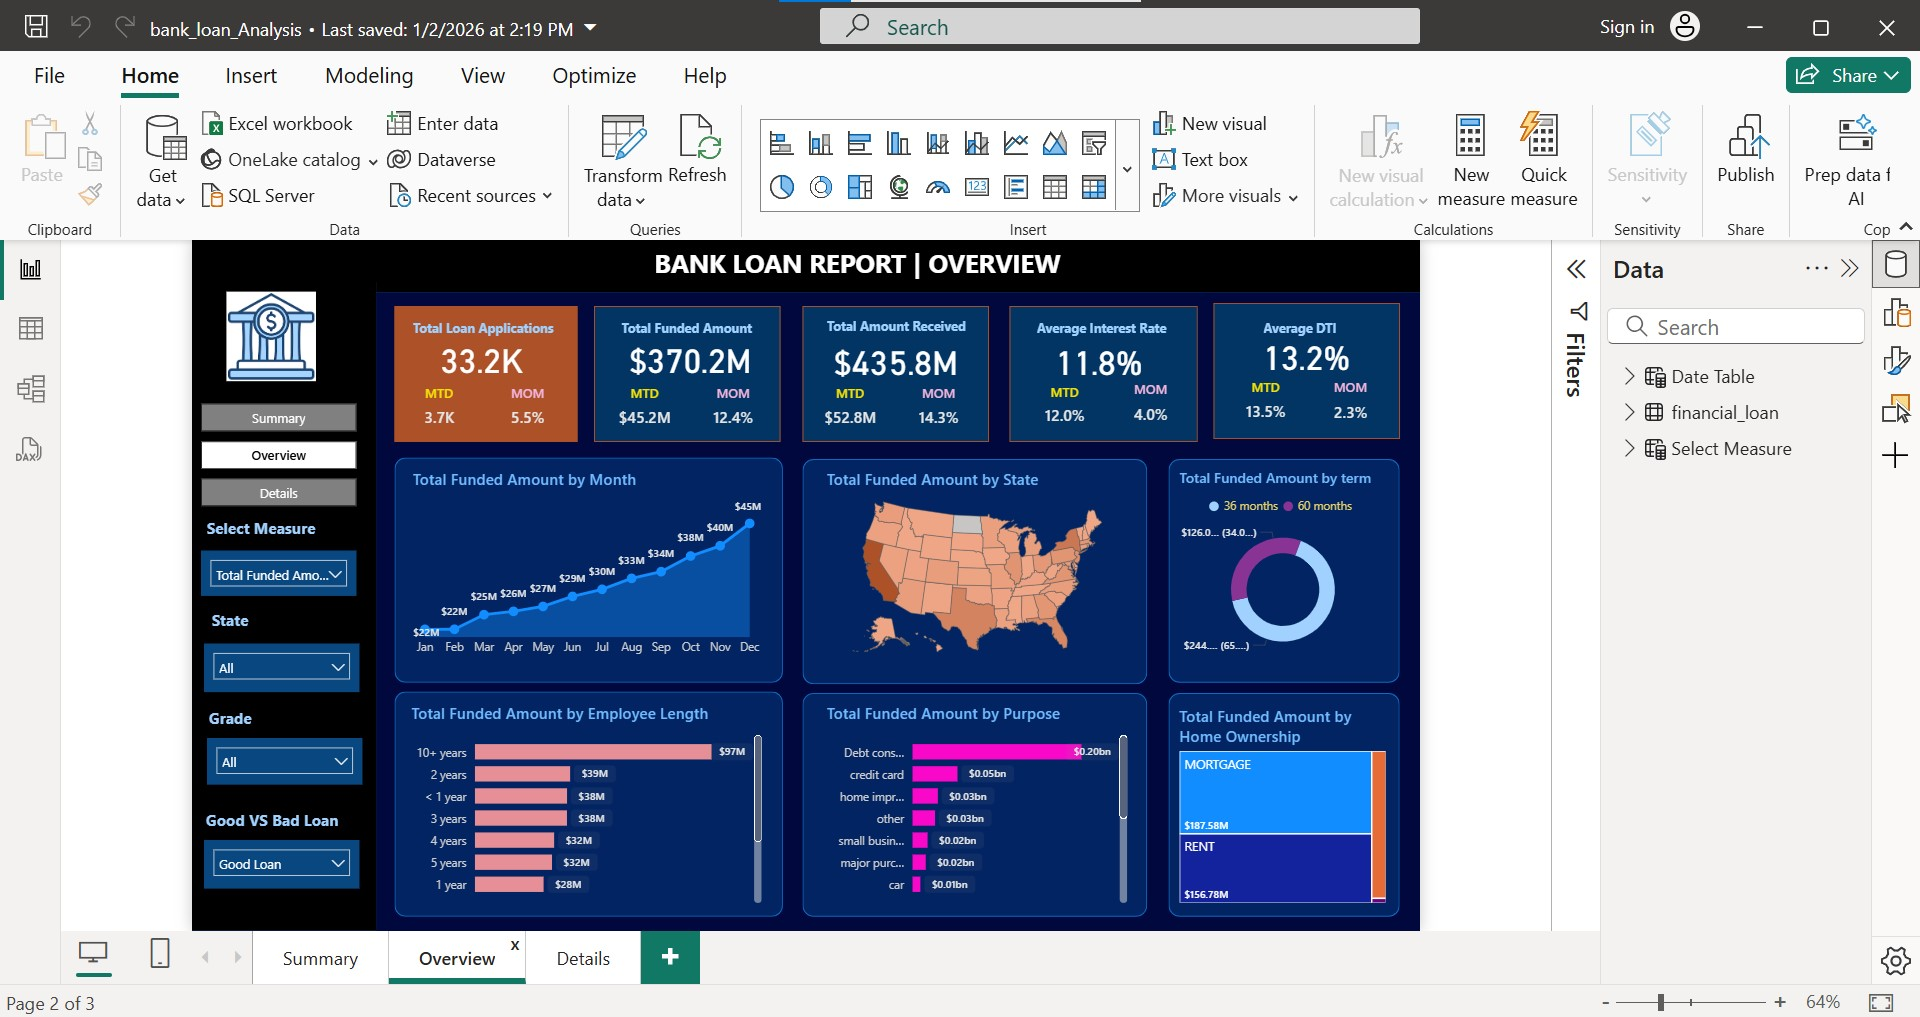

Layout of this report page (visuals, bound fields, positions):
{"tool":"powerbi","page":{"name":"Overview","canvas":[1280,720],"ordinal":1},"visuals":[{"type":"shape","box":[0,0,1280.7,54.4],"z":0},{"type":"card","fields":{"Values":["financial_loan.Average DTI"]},"box":[1101.3,90.3,118.1,58.1],"z":0,"group":"g3"},{"type":"card","fields":{"Values":["financial_loan.Total loan Application"]},"box":[237.6,93.9,128.1,57.9],"z":0,"group":"g1"},{"type":"card","fields":{"Values":["financial_loan.Avg Interest Rate"]},"box":[866.7,95.2,157.5,58.3],"z":0,"group":"g5"},{"type":"card","fields":{"Values":["financial_loan.Total Funded Amount"]},"box":[447.9,96.9,140.4,52.6],"z":0,"group":"g2"},{"type":"card","fields":{"Values":["financial_loan.Total Amount Received"]},"box":[662.2,97.1,140.4,52.6],"z":0,"group":"g4"},{"type":"textbox","box":[656.8,74.3,163.5,36.3],"z":1000,"group":"g4"},{"type":"textbox","box":[224.1,76,187.1,36.3],"z":1000,"group":"g1"},{"type":"textbox","box":[442.6,76.3,154.7,34],"z":1000,"group":"g2"},{"type":"textbox","box":[876.3,76.3,159.9,41.8],"z":1000,"group":"g5"},{"type":"textbox","box":[1110.8,76.3,98.1,34.5],"z":1000,"group":"g3"},{"type":"textbox","box":[234.3,254.3,167.1,23.6],"z":1000},{"type":"textbox","box":[0,281.9,148.1,41],"z":1000,"group":"g9"},{"type":"textbox","box":[15.8,379.6,89.8,41],"z":1000,"group":"g6"},{"type":"textbox","box":[12.6,482,74.9,36.6],"z":1000,"group":"g7"},{"type":"textbox","box":[9.5,587.5,168.5,37.8],"z":1000,"group":"g8"},{"type":"textbox","box":[476.3,0,456.3,55],"z":2000},{"type":"card","title":"MTD","fields":{"Values":["financial_loan.MTD Avg DTI"]},"box":[1071.7,144.2,93,54.4],"z":2000,"group":"g3"},{"type":"card","title":"MTD","fields":{"Values":["financial_loan.MTD Avg Int Rate"]},"box":[863.4,148.4,93,54.4],"z":2000,"group":"g5"},{"type":"card","title":"MTD","fields":{"Values":["financial_loan.MTD Funded Amount"]},"box":[425.1,149.5,93,54.4],"z":2000,"group":"g2"},{"type":"card","title":"MTD","fields":{"Values":["financial_loan.MTD Total Amount Received"]},"box":[639.4,149.7,93,54.4],"z":2000,"group":"g4"},{"type":"card","title":"MTD","fields":{"Values":["financial_loan.MTD Loan Applications"]},"box":[210.5,150.1,93,54.4],"z":2000,"group":"g1"},{"type":"shape","box":[210.7,69,190.7,141.7],"z":3000},{"type":"card","title":"MOM","fields":{"Values":["financial_loan.MOM Avg DTI"]},"box":[1164.2,143,85.4,56.3],"z":3000,"group":"g3"},{"type":"card","title":"MOM","fields":{"Values":["financial_loan.MOM Avg Int Rate"]},"box":[956.6,145.3,84.5,57.7],"z":3000,"group":"g5"},{"type":"card","title":"MOM","fields":{"Values":["financial_loan.MOM Total Funded Amount"]},"box":[518.1,149.5,93,54.4],"z":3000,"group":"g2"},{"type":"card","title":"MOM","fields":{"Values":["financial_loan.MOM Total Amount Received"]},"box":[732.4,149.7,93,54.4],"z":3000,"group":"g4"},{"type":"card","title":"MOM","fields":{"Values":["financial_loan.MOM Loan Applications"]},"box":[303.5,150.1,93,54.4],"z":3000,"group":"g1"},{"type":"group","id":"g1","title":"Group 1","box":[210.5,76,200.7,128.5],"z":4000},{"type":"shape","box":[419.6,69,194.4,141.7],"z":5000},{"type":"group","id":"g2","title":"Group 1","box":[425.1,76.3,185.3,127.2],"z":6000},{"type":"shape","box":[635.8,69,194.4,141.7],"z":7000},{"type":"shape","box":[851.9,69,196.2,141.7],"z":8000},{"type":"shape","box":[1064.5,65.4,194.4,141.7],"z":9000},{"type":"group","id":"g3","title":"Group 1","box":[1071.7,76.3,177.9,123],"z":10000},{"type":"shape","box":[211.1,226.8,404.8,234.7],"z":11000},{"type":"group","id":"g4","title":"Group 1","box":[639.4,74.3,186,129.8],"z":12000},{"type":"group","id":"g5","title":"Group 1","box":[863.4,76.3,178,127.2],"z":13000},{"type":"shape","box":[0,44.1,192.2,675.7],"z":14000},{"type":"slicer","fields":{"Values":["financial_loan.address_state"]},"box":[12.6,420.5,162.2,50.4],"z":15000},{"type":"group","id":"g6","title":"Group 1","box":[15.8,379.6,89.8,41],"z":16000},{"type":"slicer","fields":{"Values":["financial_loan.grade"]},"box":[15.8,518.2,162.2,48.8],"z":17000},{"type":"group","id":"g7","title":"Group 1","box":[12.6,482,75.6,36.2],"z":18000},{"type":"slicer","fields":{"Values":["financial_loan.Good vs Bad Loan"]},"box":[12.6,625.3,162.2,50.4],"z":19000},{"type":"group","id":"g8","title":"Group 1","box":[9.5,587.5,168.5,37.8],"z":20000},{"type":"areaChart","fields":{"Y":["financial_loan.Total Funded Amount"],"Category":["Date Table.Month"]},"box":[224.8,238.1,373,204.8],"z":21000},{"type":"slicer","fields":{"Values":["Select Measure.Select Measure"]},"box":[9.5,322.9,162.2,47.3],"z":22000},{"type":"group","id":"g9","title":"Group 1","box":[0,281.9,148.1,41],"z":23000},{"type":"shape","box":[636.3,228.4,359.1,234.7],"z":24000},{"type":"shapeMap","fields":{"Value":["financial_loan.Total Funded Amount"],"Category":["financial_loan.address_state"]},"box":[656.8,237.8,322.9,204.8],"z":25000},{"type":"shape","box":[1017.5,228.4,241,233.1],"z":26000},{"type":"donutChart","fields":{"Category":["financial_loan.term"],"Y":["financial_loan.Total Funded Amount"]},"box":[1023.8,237.8,225.2,204.8],"z":27000},{"type":"shape","box":[211.1,470.9,404.8,234.7],"z":27001},{"type":"barChart","title":"Total Funded Amount by Employee Length","fields":{"Category":["financial_loan.emp_length"],"Y":["financial_loan.Total Funded Amount"]},"box":[223.7,482,374.9,214.2],"z":27002},{"type":"shape","box":[636.3,472.5,359.1,233.1],"z":27003},{"type":"barChart","fields":{"Category":["financial_loan.purpose"],"Y":["financial_loan.Total Funded Amount"]},"box":[656.8,482,322.9,214.2],"z":27004},{"type":"shape","box":[1017.5,472.5,241,233.1],"z":27005},{"type":"treemap","fields":{"Group":["financial_loan.home_ownership"],"Values":["financial_loan.Total Funded Amount"]},"box":[1023.8,485.1,225.2,211.1],"z":27006},{"type":"pageNavigator","box":[9.5,170.1,162.2,107.1],"z":27007},{"type":"image","box":[17.3,48.8,130.7,104],"z":27008}]}

Visuals, with their boxes on the page's 1280x720 design canvas (x1, y1, x2, y2). These are canvas units, not pixel positions in the 1920x1017 screenshot, which may show the page scaled, cropped or inside an application window:
shape: crop(0, 0, 1281, 54)
card - financial_loan.Average DTI: crop(1101, 90, 1219, 148)
card - financial_loan.Total loan Application: crop(238, 94, 366, 152)
card - financial_loan.Avg Interest Rate: crop(867, 95, 1024, 154)
card - financial_loan.Total Funded Amount: crop(448, 97, 588, 150)
card - financial_loan.Total Amount Received: crop(662, 97, 803, 150)
textbox: crop(657, 74, 820, 111)
textbox: crop(224, 76, 411, 112)
textbox: crop(443, 76, 597, 110)
textbox: crop(876, 76, 1036, 118)
textbox: crop(1111, 76, 1209, 111)
textbox: crop(234, 254, 401, 278)
textbox: crop(0, 282, 148, 323)
textbox: crop(16, 380, 106, 421)
textbox: crop(13, 482, 88, 519)
textbox: crop(10, 588, 178, 625)
textbox: crop(476, 0, 933, 55)
"MTD" card: crop(1072, 144, 1165, 199)
"MTD" card: crop(863, 148, 956, 203)
"MTD" card: crop(425, 150, 518, 204)
"MTD" card: crop(639, 150, 732, 204)
"MTD" card: crop(210, 150, 304, 204)
shape: crop(211, 69, 401, 211)
"MOM" card: crop(1164, 143, 1250, 199)
"MOM" card: crop(957, 145, 1041, 203)
"MOM" card: crop(518, 150, 611, 204)
"MOM" card: crop(732, 150, 825, 204)
"MOM" card: crop(304, 150, 396, 204)
"Group 1" group: crop(210, 76, 411, 204)
shape: crop(420, 69, 614, 211)
"Group 1" group: crop(425, 76, 610, 204)
shape: crop(636, 69, 830, 211)
shape: crop(852, 69, 1048, 211)
shape: crop(1064, 65, 1259, 207)
"Group 1" group: crop(1072, 76, 1250, 199)
shape: crop(211, 227, 616, 462)
"Group 1" group: crop(639, 74, 825, 204)
"Group 1" group: crop(863, 76, 1041, 204)
shape: crop(0, 44, 192, 720)
slicer - financial_loan.address_state: crop(13, 420, 175, 471)
"Group 1" group: crop(16, 380, 106, 421)
slicer - financial_loan.grade: crop(16, 518, 178, 567)
"Group 1" group: crop(13, 482, 88, 518)
slicer - financial_loan.Good vs Bad Loan: crop(13, 625, 175, 676)
"Group 1" group: crop(10, 588, 178, 625)
areaChart - financial_loan.Total Funded Amount x Date Table.Month: crop(225, 238, 598, 443)
slicer - Select Measure.Select Measure: crop(10, 323, 172, 370)
"Group 1" group: crop(0, 282, 148, 323)
shape: crop(636, 228, 995, 463)
shapeMap - financial_loan.Total Funded Amount x financial_loan.address_state: crop(657, 238, 980, 443)
shape: crop(1018, 228, 1258, 462)
donutChart - financial_loan.term x financial_loan.Total Funded Amount: crop(1024, 238, 1249, 443)
shape: crop(211, 471, 616, 706)
"Total Funded Amount by Employee Length" barChart: crop(224, 482, 599, 696)
shape: crop(636, 472, 995, 706)
barChart - financial_loan.purpose x financial_loan.Total Funded Amount: crop(657, 482, 980, 696)
shape: crop(1018, 472, 1258, 706)
treemap - financial_loan.home_ownership x financial_loan.Total Funded Amount: crop(1024, 485, 1249, 696)
pageNavigator: crop(10, 170, 172, 277)
image: crop(17, 49, 148, 153)
